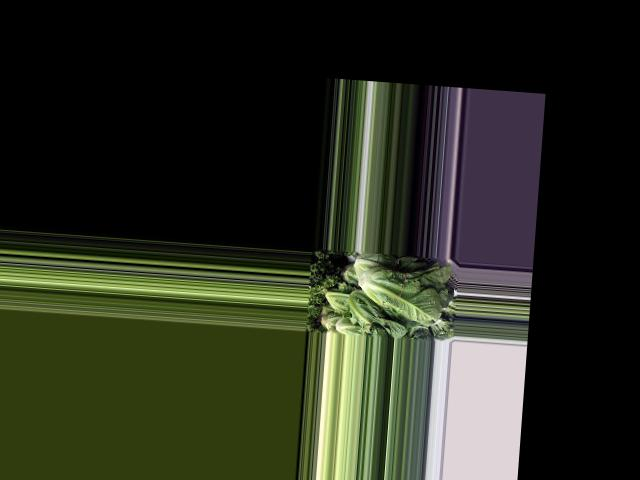lettuce: (343, 290, 412, 336)
